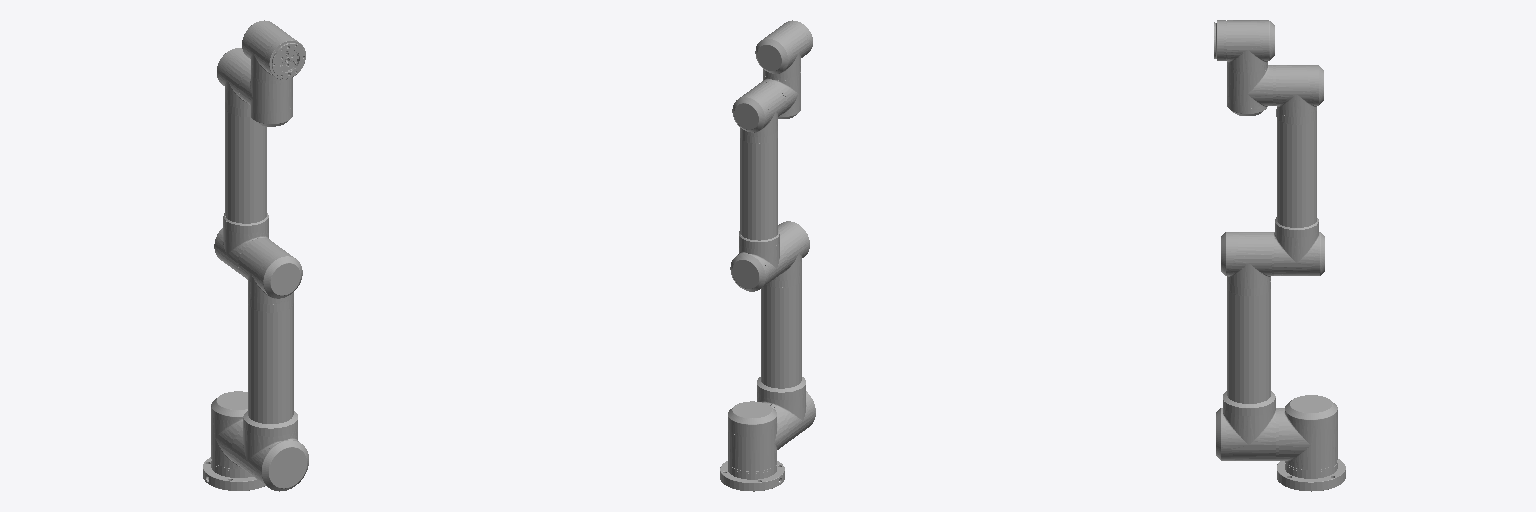
The robot description file, URDF, robot "utra6_850":
<?xml version="1.0" encoding="utf-8"?>
<!-- =================================================================================== -->
<!-- |    This document was autogenerated by xacro from ../urdf/utra6_850_robot.urdf.xacro | -->
<!-- |    EDITING THIS FILE BY HAND IS NOT RECOMMENDED                                 | -->
<!-- =================================================================================== -->
<robot name="utra6_850">
  <!--
    Author: [author] <[email redacted]> <[email redacted]>
    Contributers:
  -->
  <link name="world"/>
  <joint name="world_joint" type="fixed">
    <parent link="world"/>
    <child link="base_link"/>
    <origin rpy="0 0 0" xyz="0 0 0"/>
  </joint>
  <material name="Black">
    <color rgba="0.0 0.0 0.0 1.0"/>
  </material>
  <material name="Red">
    <color rgba="0.8 0.0 0.0 1.0"/>
  </material>
  <material name="White">
    <color rgba="1.0 1.0 1.0 1.0"/>
  </material>
  <material name="Silver">
    <color rgba="0.7 0.7 0.7 1.0"/>
  </material>
  <link name="base_link">
    <inertial>
      <origin rpy="0 0 0" xyz="0 0 0"/>
      <mass value="1e-05"/>
      <inertia ixx="0" ixy="0" ixz="0" iyy="0" iyz="0" izz="0"/>
    </inertial>
    <visual>
      <origin rpy="0 0 0" xyz="0 0 0"/>
      <geometry>
        <mesh filename="package://arm_description/meshes/utra6_850/visual/base.STL"/>
      </geometry>
      <material name="Silver"/>
    </visual>
    <collision>
      <origin rpy="0 0 0" xyz="0 0 0"/>
      <geometry>
        <mesh filename="package://arm_description/meshes/utra6_850/visual/base.STL"/>
      </geometry>
    </collision>
  </link>
  <joint name="joint1" type="revolute">
    <origin rpy="0 0 0" xyz="0 0 0"/>
    <parent link="base_link"/>
    <child link="link_1"/>
    <axis xyz="0 0 1"/>
    <limit effort="0" lower="-6.28318530718" upper="6.28318530718" velocity="3.14"/>
    <dynamics damping="0" friction="0"/>
  </joint>
  <link name="link_1">
    <inertial>
      <origin rpy="0 0 0" xyz="0 0 0"/>
      <mass value="1e-05"/>
      <inertia ixx="0" ixy="0" ixz="0" iyy="0" iyz="0" izz="0"/>
    </inertial>
    <visual>
      <origin rpy="0 0 0" xyz="0 0 0"/>
      <geometry>
        <mesh filename="package://arm_description/meshes/utra6_850/visual/link1.STL"/>
      </geometry>
      <material name="Silver"/>
    </visual>
    <collision>
      <origin rpy="0 0 0" xyz="0 0 0"/>
      <geometry>
        <mesh filename="package://arm_description/meshes/utra6_850/visual/link1.STL"/>
      </geometry>
    </collision>
  </link>
  <joint name="joint2" type="revolute">
    <origin rpy="0 0 0" xyz="0 0 0.0935"/>
    <parent link="link_1"/>
    <child link="link_2"/>
    <axis xyz="0 -1 0"/>
    <limit effort="0" lower="-6.28318530718" upper="6.28318530718" velocity="3.14"/>
    <dynamics damping="0" friction="0"/>
  </joint>
  <link name="link_2">
    <inertial>
      <origin rpy="0 0 0" xyz="0 0 0"/>
      <mass value="1e-05"/>
      <inertia ixx="0" ixy="0" ixz="0" iyy="0" iyz="0" izz="0"/>
    </inertial>
    <visual>
      <origin rpy="0 0 0" xyz="0 0 0"/>
      <geometry>
        <mesh filename="package://arm_description/meshes/utra6_850/visual/link2.STL"/>
      </geometry>
      <material name="Silver"/>
    </visual>
    <collision>
      <origin rpy="0 0 0" xyz="0 0 0"/>
      <geometry>
        <mesh filename="package://arm_description/meshes/utra6_850/visual/link2.STL"/>
      </geometry>
    </collision>
  </link>
  <joint name="joint3" type="revolute">
    <origin rpy="0 0 0" xyz="0 0 0.3895"/>
    <parent link="link_2"/>
    <child link="link_3"/>
    <axis xyz="0 1 0"/>
    <limit effort="0" lower="-6.28318530718" upper="6.28318530718" velocity="3.14"/>
    <dynamics damping="0" friction="0"/>
  </joint>
  <link name="link_3">
    <inertial>
      <origin rpy="0 0 0" xyz="0 0 0"/>
      <mass value="1e-05"/>
      <inertia ixx="0" ixy="0" ixz="0" iyy="0" iyz="0" izz="0"/>
    </inertial>
    <visual>
      <origin rpy="0 0 0" xyz="0 0 0"/>
      <geometry>
        <mesh filename="package://arm_description/meshes/utra6_850/visual/link3.STL"/>
      </geometry>
      <material name="Silver"/>
    </visual>
    <collision>
      <origin rpy="0 0 0" xyz="0 0 0"/>
      <geometry>
        <mesh filename="package://arm_description/meshes/utra6_850/visual/link3.STL"/>
      </geometry>
    </collision>
  </link>
  <joint name="joint4" type="revolute">
    <origin rpy="0 0 0" xyz="0 0 0.364"/>
    <parent link="link_3"/>
    <child link="link_4"/>
    <axis xyz="0 -1 0"/>
    <limit effort="0" lower="-6.28318530718" upper="6.28318530718" velocity="3.14"/>
    <dynamics damping="0" friction="0"/>
  </joint>
  <link name="link_4">
    <inertial>
      <origin rpy="0 0 0" xyz="0 0 0"/>
      <mass value="1e-05"/>
      <inertia ixx="0" ixy="0" ixz="0" iyy="0" iyz="0" izz="0"/>
    </inertial>
    <visual>
      <origin rpy="0 0 0" xyz="0 0 0"/>
      <geometry>
        <mesh filename="package://arm_description/meshes/utra6_850/visual/link4.STL"/>
      </geometry>
      <material name="Silver"/>
    </visual>
    <collision>
      <origin rpy="0 0 0" xyz="0 0 0"/>
      <geometry>
        <mesh filename="package://arm_description/meshes/utra6_850/visual/link4.STL"/>
      </geometry>
    </collision>
  </link>
  <joint name="joint5" type="revolute">
    <origin rpy="0 0 0" xyz="0 -0.1245 0.0965"/>
    <parent link="link_4"/>
    <child link="link_5"/>
    <axis xyz="0 0 1"/>
    <limit effort="0" lower="-6.28318530718" upper="6.28318530718" velocity="3.14"/>
    <dynamics damping="0" friction="0"/>
  </joint>
  <link name="link_5">
    <inertial>
      <mass value="1e-05"/>
      <origin rpy="0 0 0" xyz="0 0 0"/>
      <inertia ixx="0" ixy="0" ixz="0" iyy="0" iyz="0" izz="0"/>
    </inertial>
    <visual>
      <origin rpy="0 0 0" xyz="0 0 0"/>
      <geometry>
        <mesh filename="package://arm_description/meshes/utra6_850/visual/link5.STL"/>
      </geometry>
      <material name="Silver"/>
    </visual>
    <collision>
      <origin rpy="0 0 0" xyz="0 0 0"/>
      <geometry>
        <mesh filename="package://arm_description/meshes/utra6_850/visual/link5.STL"/>
      </geometry>
    </collision>
  </link>
  <joint name="joint6" type="revolute">
    <origin rpy="1.57079632679 0 0" xyz="0 -0.0665 0"/>
    <parent link="link_5"/>
    <child link="link_6"/>
    <axis xyz="0 0 1"/>
    <limit effort="0" lower="-6.28318530718" upper="6.28318530718" velocity="3.14"/>
    <dynamics damping="0" friction="0"/>
  </joint>
  <link name="link_6">
    <inertial>
      <mass value="1e-05"/>
      <origin rpy="0 0 0" xyz="0 0 0"/>
      <inertia ixx="0" ixy="0" ixz="0" iyy="0" iyz="0" izz="0"/>
    </inertial>
    <visual>
      <origin rpy="0 0 0" xyz="0 0 0"/>
      <geometry>
        <mesh filename="package://arm_description/meshes/utra6_850/visual/link6.STL"/>
      </geometry>
      <material name="Silver"/>
    </visual>
    <collision>
      <origin rpy="0 0 0" xyz="0 0 0"/>
      <geometry>
        <mesh filename="package://arm_description/meshes/utra6_850/visual/link6.STL"/>
      </geometry>
    </collision>
  </link>
  <transmission name="tran1">
    <type>transmission_interface/SimpleTransmission</type>
    <joint name="joint1">
      <hardwareInterface>hardware_interface/PositionJointInterface</hardwareInterface>
    </joint>
    <actuator name="motor1">
      <hardwareInterface>hardware_interface/PositionJointInterface</hardwareInterface>
      <mechanicalReduction>1</mechanicalReduction>
    </actuator>
  </transmission>
  <transmission name="tran1">
    <type>transmission_interface/SimpleTransmission</type>
    <joint name="joint2">
      <hardwareInterface>hardware_interface/PositionJointInterface</hardwareInterface>
    </joint>
    <actuator name="motor1">
      <hardwareInterface>hardware_interface/PositionJointInterface</hardwareInterface>
      <mechanicalReduction>1</mechanicalReduction>
    </actuator>
  </transmission>
  <transmission name="tran1">
    <type>transmission_interface/SimpleTransmission</type>
    <joint name="joint3">
      <hardwareInterface>hardware_interface/PositionJointInterface</hardwareInterface>
    </joint>
    <actuator name="motor1">
      <hardwareInterface>hardware_interface/PositionJointInterface</hardwareInterface>
      <mechanicalReduction>1</mechanicalReduction>
    </actuator>
  </transmission>
  <transmission name="tran1">
    <type>transmission_interface/SimpleTransmission</type>
    <joint name="joint4">
      <hardwareInterface>hardware_interface/PositionJointInterface</hardwareInterface>
    </joint>
    <actuator name="motor1">
      <hardwareInterface>hardware_interface/PositionJointInterface</hardwareInterface>
      <mechanicalReduction>1</mechanicalReduction>
    </actuator>
  </transmission>
  <transmission name="tran1">
    <type>transmission_interface/SimpleTransmission</type>
    <joint name="joint5">
      <hardwareInterface>hardware_interface/PositionJointInterface</hardwareInterface>
    </joint>
    <actuator name="motor1">
      <hardwareInterface>hardware_interface/PositionJointInterface</hardwareInterface>
      <mechanicalReduction>1</mechanicalReduction>
    </actuator>
  </transmission>
  <transmission name="tran1">
    <type>transmission_interface/SimpleTransmission</type>
    <joint name="joint6">
      <hardwareInterface>hardware_interface/PositionJointInterface</hardwareInterface>
    </joint>
    <actuator name="motor1">
      <hardwareInterface>hardware_interface/PositionJointInterface</hardwareInterface>
      <mechanicalReduction>1</mechanicalReduction>
    </actuator>
  </transmission>
  <gazebo>
    <plugin filename="libgazebo_ros_control.so" name="gazebo_ros_control">
      <robotNamespace>/utra6_850</robotNamespace>
      <robotSimType>gazebo_ros_control/DefaultRobotHWSim</robotSimType>
      <legacyModeNS>true</legacyModeNS>
    </plugin>
  </gazebo>
</robot>

--- What the picture shows (computed from the rendered views, not written in the file) ---
The picture shows the robot from 3 angles, left to right: view 1: azimuth 30°, elevation 25°; view 2: azimuth 150°, elevation 25°; view 3: azimuth 270°, elevation 25°; orthographic projection.
Robot: utra6_850 — 8 links, 7 joints (6 revolute, 1 fixed); root link world; default pose: all joints at 0.
Visible links, largest first — view 1: link_2, link_3, link_1, link_4, link_5, link_6, base_link; view 2: link_3, link_2, link_1, link_5, base_link, link_4; view 3: link_2, link_3, link_1, link_5, link_4, base_link.
Link boxes in pixels (x1,y1,x2,y2): link_2: (233,238,308,491); link_3: (214,48,269,273); link_1: (211,391,247,468); link_4: (240,70,292,126); link_5: (242,20,293,80); link_6: (266,38,305,79); base_link: (203,457,265,490); link_3: (730,82,786,291); link_2: (757,221,815,443); link_1: (728,401,789,471); link_5: (755,23,809,77); base_link: (720,461,784,491); link_4: (759,72,800,118); link_2: (1216,232,1275,460); link_3: (1273,65,1324,275); link_1: (1276,395,1337,469); link_5: (1224,20,1274,72); link_4: (1227,65,1272,115); base_link: (1277,459,1345,491).
Bounding box of the posed robot: 0.136 × 0.2578 × 0.9825 m (x, y, z).
Meshes: 7 distinct files referenced, 7 mesh visuals loaded (7 binary STL).
